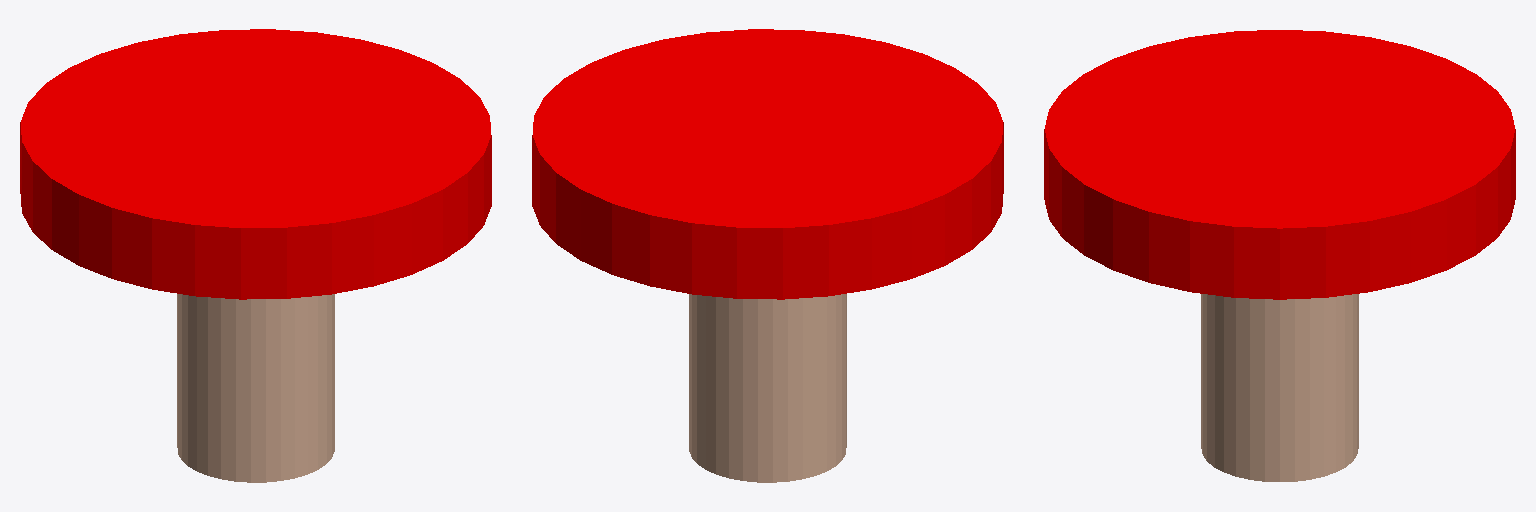
The robot description file, URDF, robot "button":
<?xml version="1.0" ?>
<robot name="button">
  <dynamics damping="1.0" />
  <contact>
    <restitution value="0.01"/>
    <lateral_friction value="0.5"/>
    <rolling_friction value="0.5"/>
    <contact_cfm value="0.0"/>
    <contact_erp value="1.0"/>
  </contact>
  <material name="red">
    <color rgba="1 0 0 1"/>
  </material>
  <material name="peach">
    <color rgba="0.9 0.75 0.65 1"/>
  </material>
  <link name="button_stem">
    <inertial>
      <origin rpy="0 0 0" xyz="0 0 0"/>
      <mass value="0.01"/>
      <inertia ixx="0.0001" ixy="0" ixz="0" iyy="0.0001" iyz="0" izz="0.0001"/>
    </inertial>
    <visual>
      <origin rpy="0 0 0" xyz="0 0 0"/>
      <geometry>
        <cylinder length="0.02" radius="0.005"/>
      </geometry>
      <material name="peach"/>
    </visual>
    <collision>
      <origin rpy="0 0 0" xyz="0 0 0"/>
      <geometry>
        <cylinder length="0.02" radius="0.005"/>
      </geometry>
      <material name="peach"/>
    </collision>
  </link>
  <joint name="stem_to_head" type="fixed">
    <parent link="button_stem"/>
    <child link="button_head"/>
    <origin xyz="0 0 0.01" rpy="0 0 0"/>
  </joint>
  <link name="button_head">
    <inertial>
      <origin rpy="0 0 0" xyz="0 0 0"/>
      <mass value="0.02"/>
      <inertia ixx="0.0001" ixy="0" ixz="0" iyy="0.0001" iyz="0" izz="0.0001"/>
    </inertial>
    <visual>
      <origin rpy="0 0 0" xyz="0 0 0"/>
      <geometry>
        <cylinder length="0.005" radius="0.015"/>
      </geometry>
      <material name="red"/>
    </visual>
    <collision>
      <origin rpy="0 0 0" xyz="0 0 0"/>
      <geometry>
        <cylinder length="0.005" radius="0.015"/>
      </geometry>
      <material name="red"/>
    </collision>
  </link>
</robot>

--- What the picture shows (computed from the rendered views, not written in the file) ---
Views: 3 orthographic renders of the robot side by side, from view 1: azimuth 30°, elevation 25°; view 2: azimuth 150°, elevation 25°; view 3: azimuth 270°, elevation 25°.
Robot: button — 2 links, 1 joints (1 fixed); root link button_stem; default pose: every joint at zero.
Visible links, largest first — view 1: button_head, button_stem; view 2: button_head, button_stem; view 3: button_head, button_stem.
Link boxes in pixels (box(x1,y1,x2,y2)): button_head: box(20, 29, 491, 299); button_stem: box(177, 294, 334, 482); button_head: box(532, 29, 1003, 299); button_stem: box(689, 294, 846, 482); button_head: box(1044, 30, 1515, 299); button_stem: box(1201, 294, 1358, 481).
Bounding box of the posed robot: 0.03 × 0.03 × 0.0225 m (x, y, z).
Geometry: primitives only (box / cylinder / sphere), no mesh files.